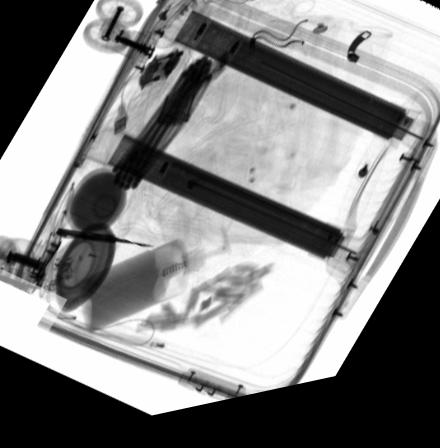Knife: (55, 230, 153, 253)
